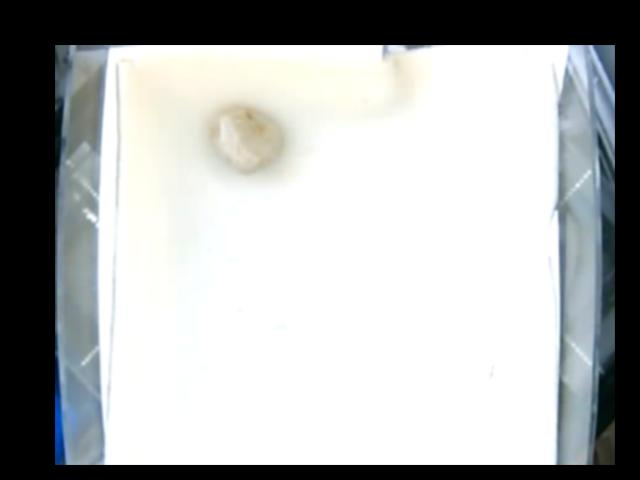Pebble: (214, 104, 282, 177)
